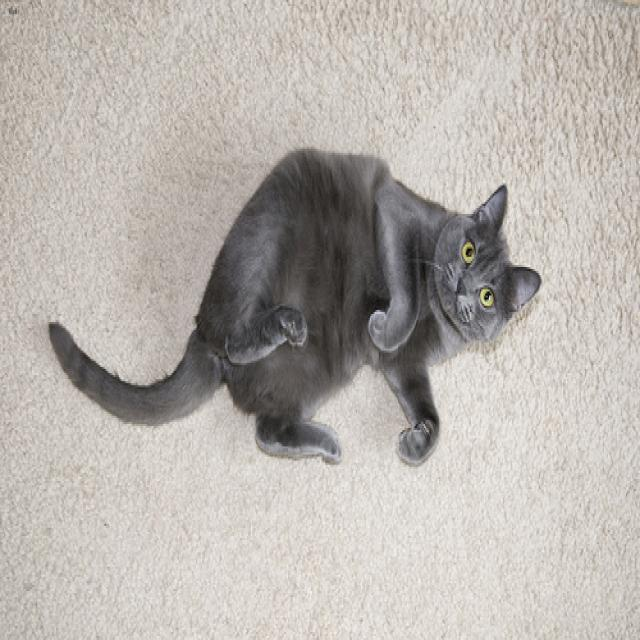Russian_Blue: (433, 182, 539, 337)
